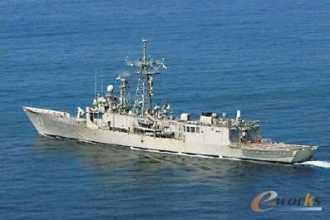warship: (23, 38, 318, 163)
